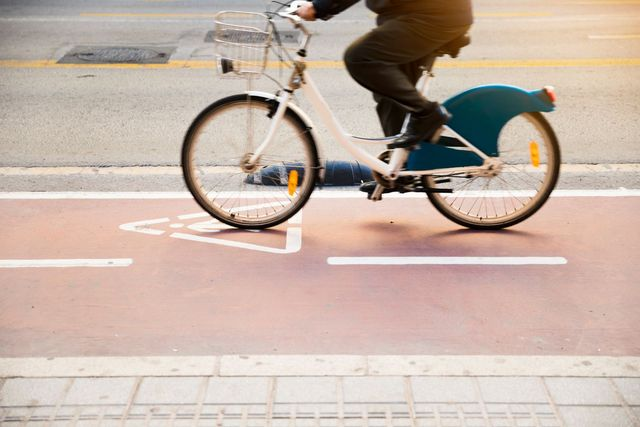Bicycle: (177, 10, 579, 242)
